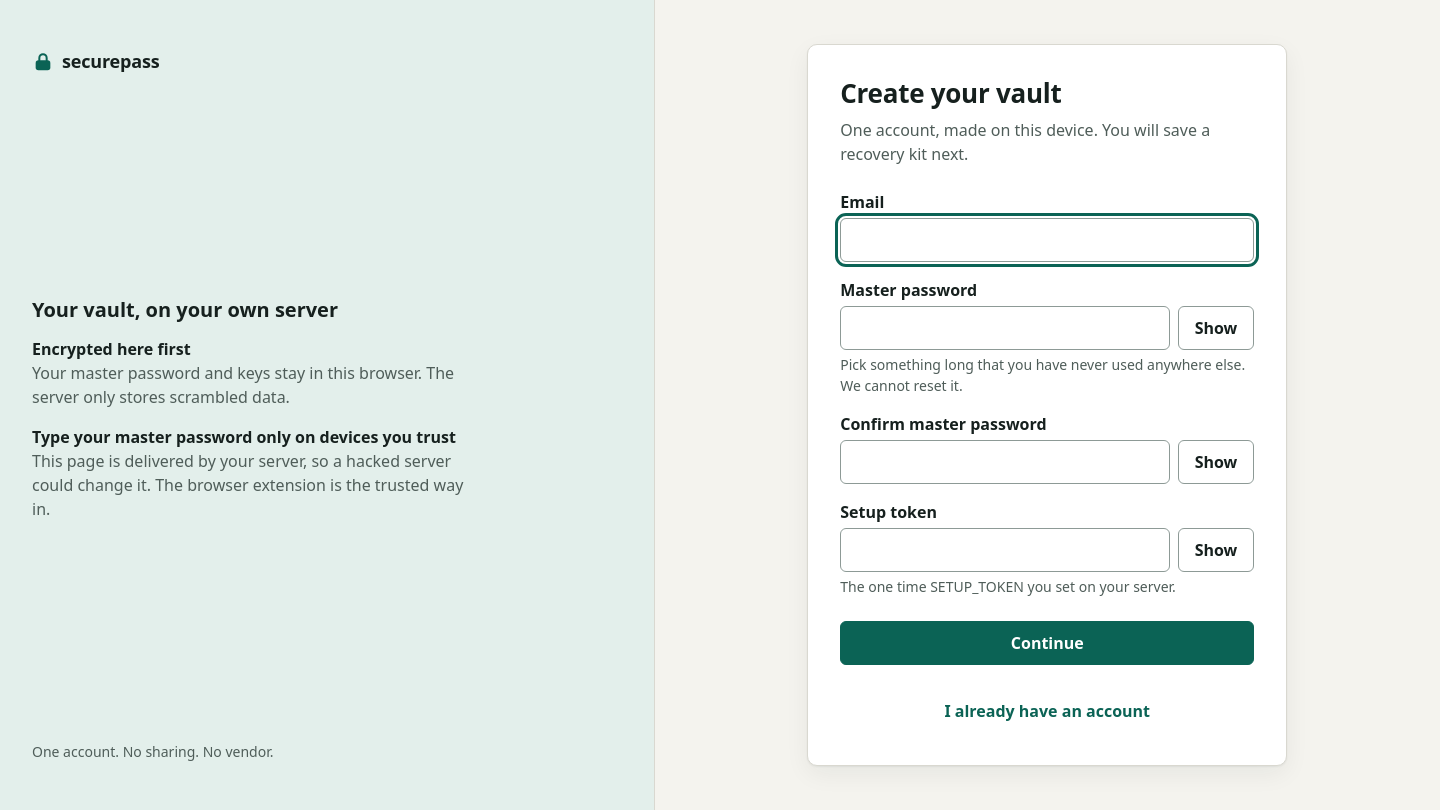
Test: SetupScreen account step › prepares the account from the typed email and password
Type "me@example.com" into the field labelled "Email".
click(1047, 240); type("me@example.com")  # box 840,218 -> 1254,262
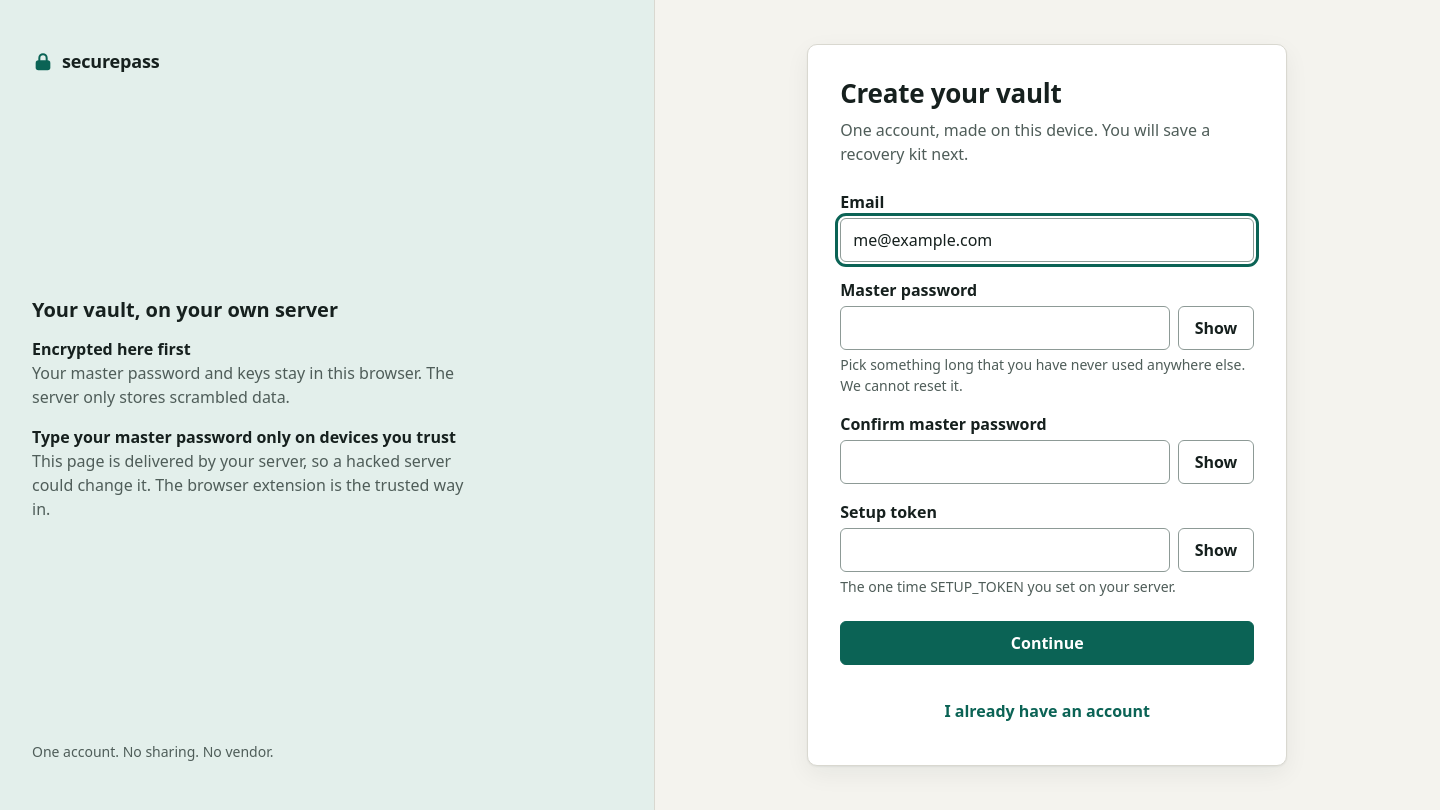
Type "a long master password" into the password field labelled "Master password".
click(1005, 328); type("a long master password")  # box 840,306 -> 1170,350
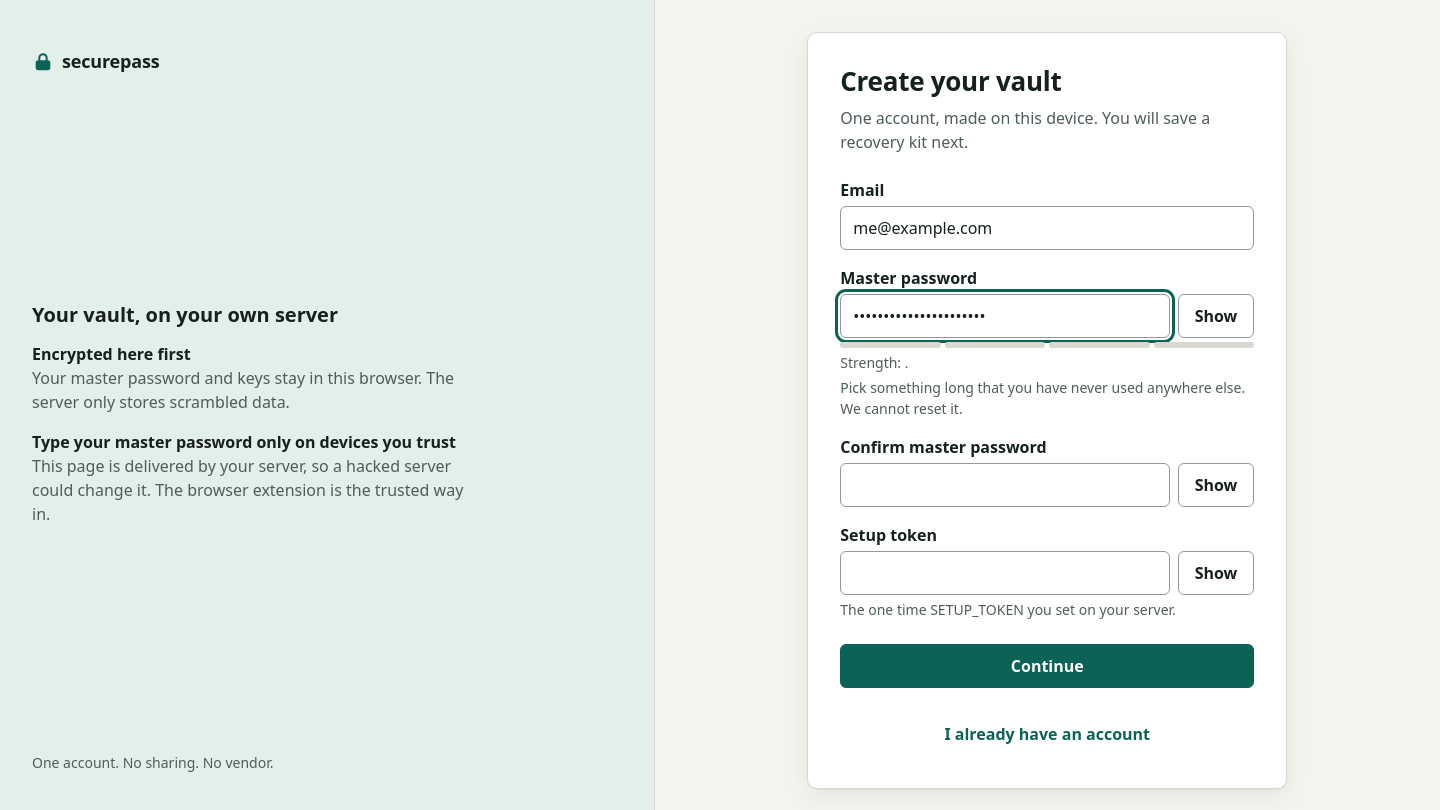
Type "a long master password" into the password field labelled "Confirm master password".
click(1005, 484); type("a long master password")  # box 840,462 -> 1170,506
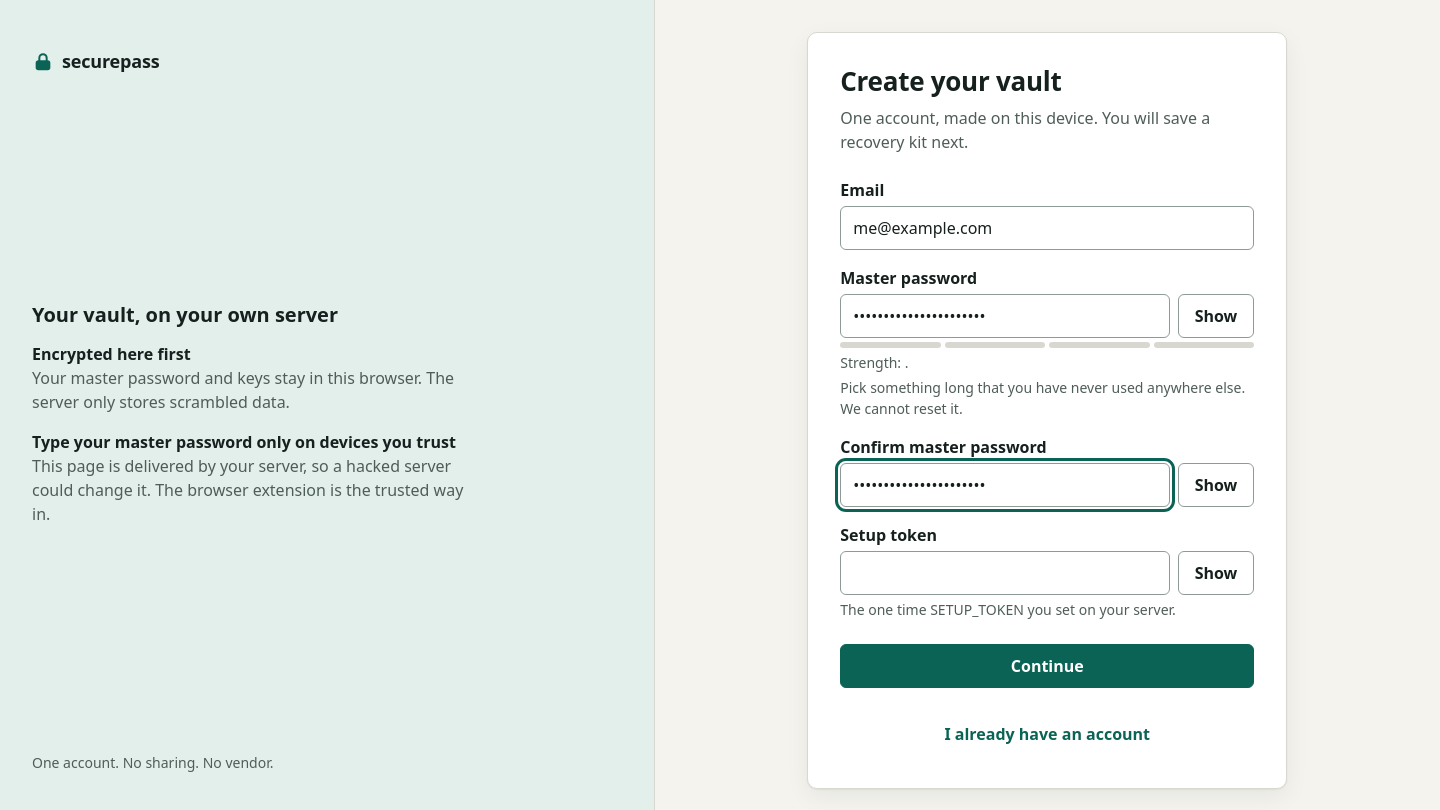
Type "setup-token" into the password field labelled "Setup token".
click(1005, 572); type("setup-token")  # box 840,550 -> 1170,594
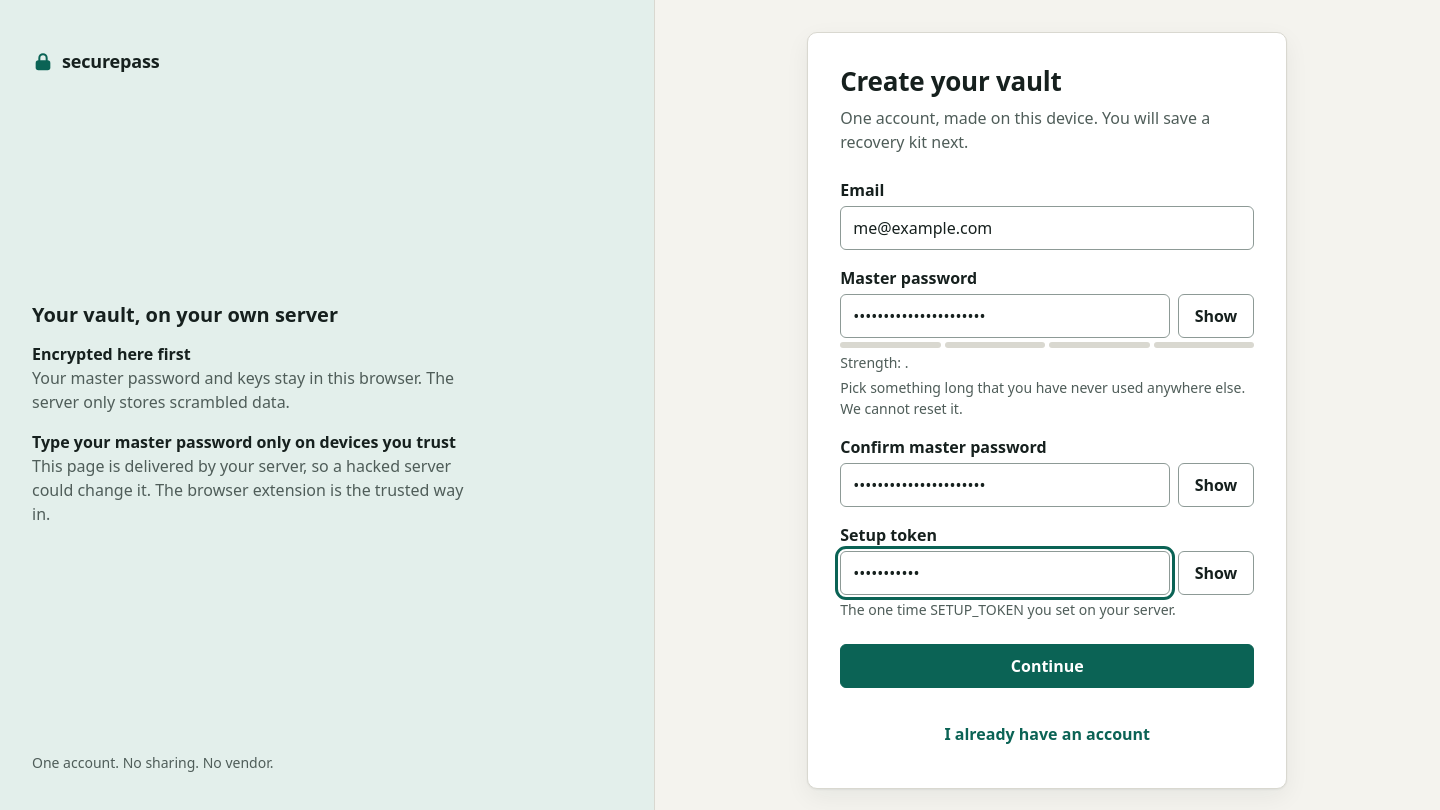
Click the button "Continue".
click(1047, 666)  # box 840,644 -> 1254,688
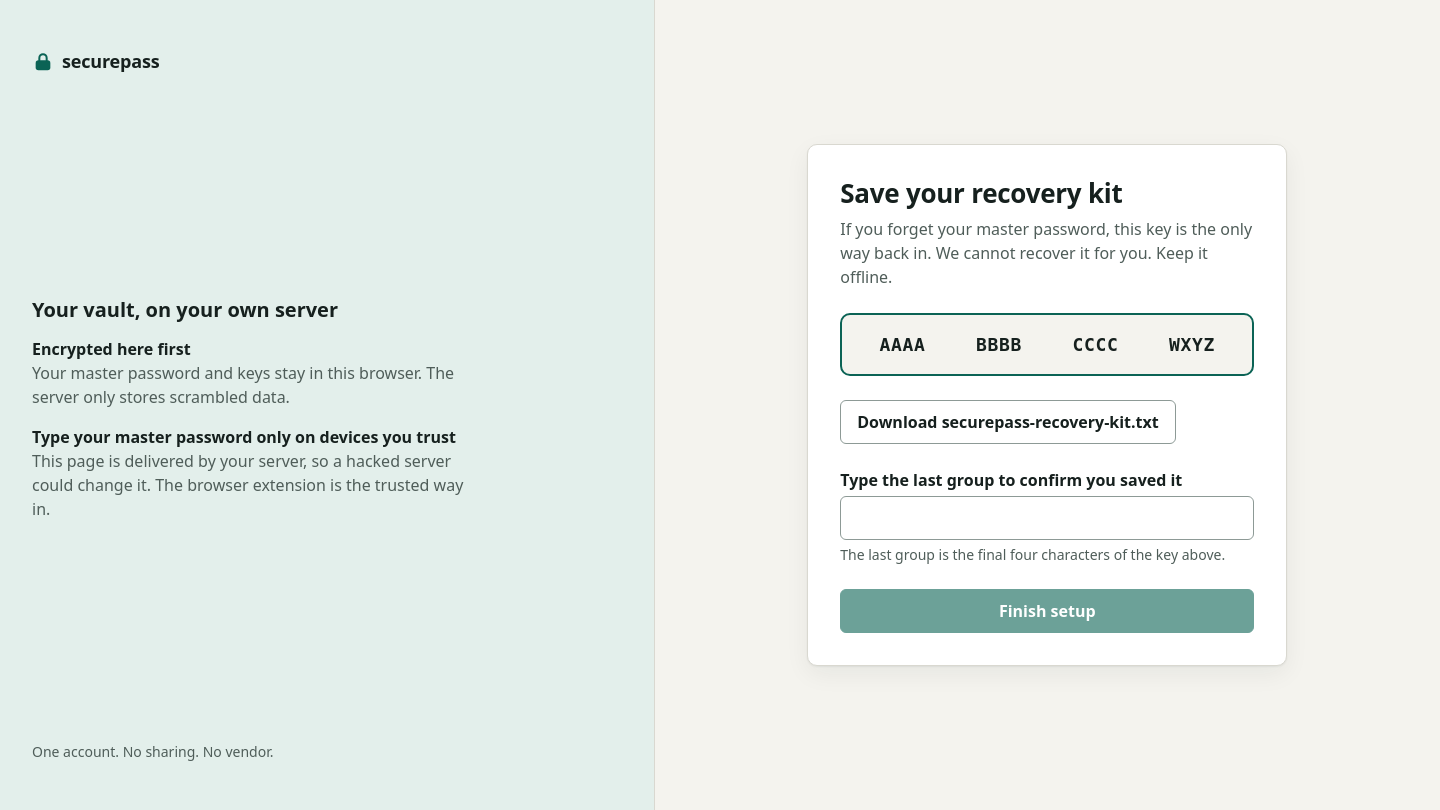
Expected: the heading "Save your recovery kit" is shown, 840,175 -> 1122,211
